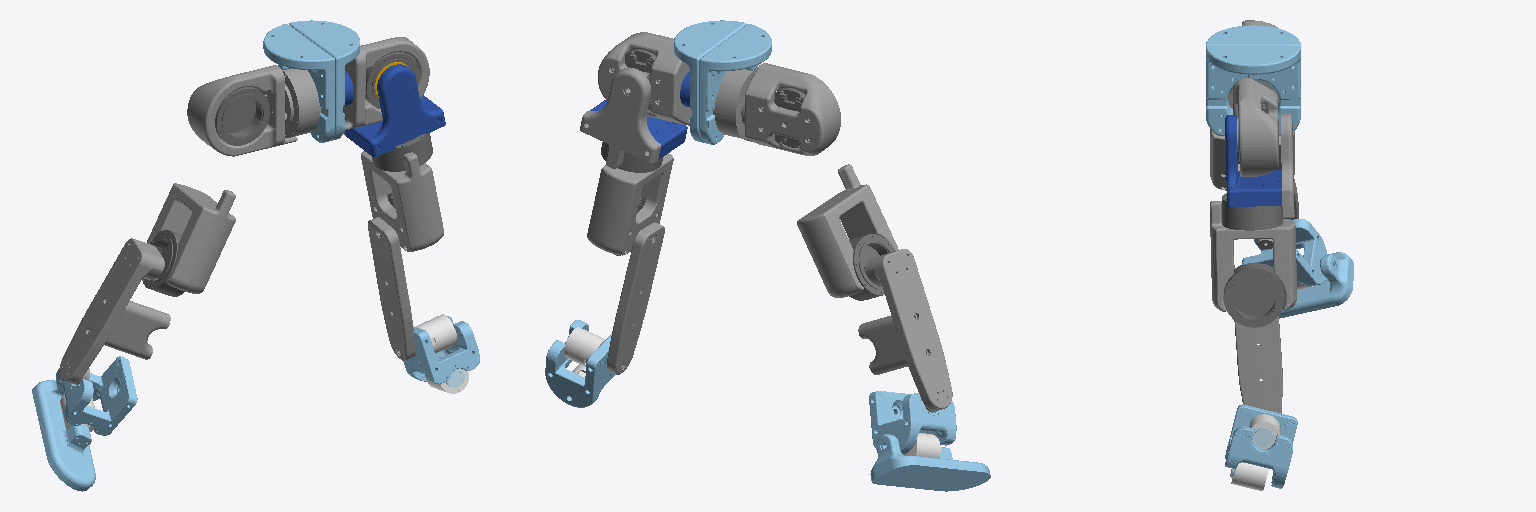
--- What the picture shows (computed from the rendered views, not written in the file) ---
3 views of the same robot in one strip: view 1: azimuth 30°, elevation 25°; view 2: azimuth 150°, elevation 25°; view 3: azimuth 270°, elevation 25° (orthographic).
Model lower_limbs with 46 links and 45 joints (12 revolute, 33 fixed), rooted at link_leg_assembly_left_1_leg_part_1_2, posed joints at zero except 8 at the middle of their limits (left hip pitch = 1.59, left hip yaw = 0.845, right hip yaw = -1.6, right hip roll = -1.7, left knee pitch = 2.05, right knee pitch = 2.27, +2 more).
Visible links, largest first — view 1: link_leg_assembly_right_1_leg_part_6_2, link_leg_assembly_right_1_leg_part_5_right_2, link_leg_assembly_left_1_let_part_5_left_1, link_leg_assembly_right_1_leg_part_2_right_1, link_leg_assembly_left_1_leg_part_3_1, link_right_foot_1_foot_1, link_leg_assembly_left_1_leg_part_7_1, link_leg_assembly_right_1_leg_part_1_2, link_leg_assembly_left_1_leg_part_2_left_1, link_right_foot_1_ankle_half_2_right_2, link_leg_assembly_left_1_leg_part_1_2, link_leg_assembly_right_1_rmd_x8_90_mock_1_outer_rmd_x8_90_1 (+7 smaller); view 2: link_leg_assembly_right_1_leg_part_6_2, link_leg_assembly_right_1_leg_part_2_right_1, link_leg_assembly_right_1_leg_part_5_right_2, link_leg_assembly_left_1_let_part_5_left_1, link_leg_assembly_left_1_leg_part_4_1, link_leg_assembly_left_1_leg_part_7_1, link_leg_assembly_left_1_leg_part_2_left_1, link_right_foot_1_foot_1, link_leg_assembly_right_1_leg_part_1_2, link_left_foot_1_ankle_half_1_left_2, link_right_foot_1_ankle_half_1_right_1, link_leg_assembly_left_1_leg_part_1_2 (+9 smaller); view 3: link_leg_assembly_left_1_leg_part_1_2, link_leg_assembly_left_1_let_part_5_left_1, link_leg_assembly_left_1_leg_part_2_left_1, link_leg_assembly_left_1_leg_part_7_1, link_leg_assembly_left_1_rmd_x8_90_mock_3_outer_rmd_x8_90_1, link_leg_assembly_left_1_leg_part_3_1, link_right_foot_1_foot_1, link_right_foot_1_ankle_half_1_right_1, link_leg_assembly_right_1_leg_part_1_2, link_left_foot_1_ankle_half_2_left_1, link_left_foot_1_ankle_half_1_left_2, link_leg_assembly_left_1_rmd_x8_90_mock_2_outer_rmd_x8_90_1 (+3 smaller).
Link boxes in pixels (x1,y1,x2,y2): link_leg_assembly_right_1_leg_part_6_2: (59,238,170,384); link_leg_assembly_right_1_leg_part_5_right_2: (147,183,235,293); link_leg_assembly_left_1_let_part_5_left_1: (361,151,443,251); link_leg_assembly_right_1_leg_part_2_right_1: (187,65,297,156); link_leg_assembly_left_1_leg_part_3_1: (345,64,445,156); link_right_foot_1_foot_1: (32,380,95,491); link_leg_assembly_left_1_leg_part_7_1: (368,217,415,360); link_leg_assembly_right_1_leg_part_1_2: (263,24,334,142); link_leg_assembly_left_1_leg_part_2_left_1: (343,37,429,130); link_right_foot_1_ankle_half_2_right_2: (64,377,137,435); link_leg_assembly_left_1_leg_part_1_2: (289,20,359,140); link_leg_assembly_right_1_rmd_x8_90_mock_1_outer_rmd_x8_90_1: (215,87,269,145); link_leg_assembly_right_1_leg_part_6_2: (858,249,952,412); link_leg_assembly_right_1_leg_part_2_right_1: (744,63,840,155); link_leg_assembly_right_1_leg_part_5_right_2: (797,164,898,297); link_leg_assembly_left_1_let_part_5_left_1: (587,153,673,255); link_leg_assembly_left_1_leg_part_4_1: (580,67,660,168); link_leg_assembly_left_1_leg_part_7_1: (607,222,664,373); link_leg_assembly_left_1_leg_part_2_left_1: (598,32,691,125); link_right_foot_1_foot_1: (870,434,990,491); link_leg_assembly_right_1_leg_part_1_2: (699,24,771,144); link_left_foot_1_ankle_half_1_left_2: (545,340,610,407); link_right_foot_1_ankle_half_1_right_1: (869,391,933,454); link_leg_assembly_left_1_leg_part_1_2: (674,20,746,142); link_leg_assembly_left_1_leg_part_1_2: (1206,46,1300,135); link_leg_assembly_left_1_let_part_5_left_1: (1210,201,1296,311); link_leg_assembly_left_1_leg_part_2_left_1: (1233,78,1278,176); link_leg_assembly_left_1_leg_part_7_1: (1234,316,1282,413); link_leg_assembly_left_1_rmd_x8_90_mock_3_outer_rmd_x8_90_1: (1224,263,1284,327); link_leg_assembly_left_1_leg_part_3_1: (1225,115,1281,206); link_right_foot_1_foot_1: (1279,252,1353,318); link_right_foot_1_ankle_half_1_right_1: (1266,219,1327,286); link_leg_assembly_right_1_leg_part_1_2: (1206,25,1300,113); link_left_foot_1_ankle_half_2_left_1: (1225,404,1268,468); link_left_foot_1_ankle_half_1_left_2: (1257,411,1297,488); link_leg_assembly_left_1_rmd_x8_90_mock_2_outer_rmd_x8_90_1: (1222,193,1282,230).
Bounding box of the posed robot: 0.8237 × 0.2565 × 0.7331 m (x, y, z).
28 mesh visuals loaded from 46 distinct referenced files (28 binary STL); not drawn: 18 (reference not matched to a file when rendering).

robot.urdf — lower_limbs:
<robot name="lower_limbs">
  <link name="link_leg_assembly_left_1_leg_part_1_2">
    <visual>
      <origin xyz="0 0 0" rpy="0 0 0" />
      <geometry>
        <mesh filename="./meshes/leg_assembly_left_1_leg_part_1_2_simple.stl" />
        </geometry>
      <material name="link_leg_assembly_left_1_leg_part_1_2_material">
        <color rgba="0.61568627 0.81176471 0.92941176 1" />
        </material>
      </visual>
    <collision>
      <origin xyz="0 0 0" rpy="0 0 0" />
      <geometry>
        <mesh filename="./meshes/leg_assembly_left_1_leg_part_1_2_simple.stl" />
        </geometry>
      </collision>
    <inertial>
      <mass value="0.18740424" />
      <inertia ixx="0.00086371009" iyy="0.00049678333" izz="0.00050512115" ixy="0" ixz="-8.1028268e-05" iyz="0" />
      <origin xyz="0 0 0" rpy="-3.1415129 0 3.1415282" />
      </inertial>
    </link>
  <link name="link_leg_assembly_right_1_leg_part_1_2">
    <visual>
      <origin xyz="0 0 0" rpy="0 0 0" />
      <geometry>
        <mesh filename="./meshes/leg_assembly_right_1_leg_part_1_2_simple.stl" />
        </geometry>
      <material name="link_leg_assembly_right_1_leg_part_1_2_material">
        <color rgba="0.61568627 0.81176471 0.92941176 1" />
        </material>
      </visual>
    <collision>
      <origin xyz="0 0 0" rpy="0 0 0" />
      <geometry>
        <mesh filename="./meshes/leg_assembly_right_1_leg_part_1_2_simple.stl" />
        </geometry>
      </collision>
    <inertial>
      <mass value="0.18740424" />
      <inertia ixx="0.00050512115" iyy="0.00086371009" izz="0.00049678333" ixy="8.1028268e-05" ixz="0" iyz="0" />
      <origin xyz="0.068999903 0.017024107 0.020998677" rpy="-0.21686582 -0.20732123 0.045338571" />
      </inertial>
    </link>
  <joint name="joint_fastened_4" type="fixed">
    <origin xyz="-0.020998677 -0.069000097 0.017024107" rpy="-1.5707963 0 1.5707963" />
    <parent link="link_leg_assembly_left_1_leg_part_1_2" />
    <child link="link_leg_assembly_right_1_leg_part_1_2" />
    </joint>
  <link name="link_leg_assembly_left_1_rmd_x12_150_mock_1_outer_x12_150_1">
    <visual>
      <origin xyz="0 0 0" rpy="0 0 0" />
      <geometry>
        <mesh filename="./meshes/leg_assembly_left_1_rmd_x12_150_mock_1_outer_x12_150_1_simple.stl" />
        </geometry>
      <material name="link_leg_assembly_left_1_rmd_x12_150_mock_1_outer_x12_150_1_material">
        <color rgba="0.64705882 0.64705882 0.64705882 1" />
        </material>
      </visual>
    <collision>
      <origin xyz="0 0 0" rpy="0 0 0" />
      <geometry>
        <mesh filename="./meshes/leg_assembly_left_1_rmd_x12_150_mock_1_outer_x12_150_1_simple.stl" />
        </geometry>
      </collision>
    <inertial>
      <mass value="0.18332765" />x
      <inertia ixx="0.00034879882" iyy="0.0002115364" izz="0.00021637061" ixy="0" ixz="0" iyz="0" />
      <origin xyz="-0.0071587856 -0.057541153 0.015897698" rpy="1.5714571 -0.00071109293 -1.5709195" />
      </inertial>
    </link>
  <joint name="joint_leg_assembly_left_1_fastened_12" type="fixed">
    <origin xyz="-0.00099867745 0.0071596031 0.0055805032" rpy="1.5707963 0 1.5707963" />
    <parent link="link_leg_assembly_left_1_leg_part_1_2" />
    <child link="link_leg_assembly_left_1_rmd_x12_150_mock_1_outer_x12_150_1" />
    </joint>
  <link name="link_leg_assembly_right_1_rmd_x12_150_mock_1_outer_x12_150_1">
    <visual>
      <origin xyz="0 0 0" rpy="0 0 0" />
      <geometry>
        <mesh filename="./meshes/leg_assembly_right_1_rmd_x12_150_mock_1_outer_x12_150_1_simple.stl" />
        </geometry>
      <material name="link_leg_assembly_right_1_rmd_x12_150_mock_1_outer_x12_150_1_material">
        <color rgba="0.64705882 0.64705882 0.64705882 1" />
        </material>
      </visual>
    <collision>
      <origin xyz="0 0 0" rpy="0 0 0" />
      <geometry>
        <mesh filename="./meshes/leg_assembly_right_1_rmd_x12_150_mock_1_outer_x12_150_1_simple.stl" />
        </geometry>
      </collision>
    <inertial>
      <mass value="0.18332765" />
      <inertia ixx="0.00034879882" iyy="0.0002115364" izz="0.00021637061" ixy="0" ixz="0" iyz="0" />
      <origin xyz="-0.0071587856 -0.057541153 0.015897698" rpy="1.5714571 -0.00071109293 -1.5709195" />
      </inertial>
    </link>
  <joint name="joint_leg_assembly_right_1_fastened_12" type="fixed">
    <origin xyz="0.0618403 0.011443604 0.02" rpy="0 0 3.1415927" />
    <parent link="link_leg_assembly_right_1_leg_part_1_2" />
    <child link="link_leg_assembly_right_1_rmd_x12_150_mock_1_outer_x12_150_1" />
    </joint>
  <link name="link_leg_assembly_left_1_rmd_x12_150_mock_1_inner_x12_150_1">
    <visual>
      <origin xyz="0 0 0" rpy="0 0 0" />
      <geometry>
        <mesh filename="./meshes/leg_assembly_left_1_rmd_x12_150_mock_1_inner_x12_150_1_simple.stl" />
        </geometry>
      <material name="link_leg_assembly_left_1_rmd_x12_150_mock_1_inner_x12_150_1_material">
        <color rgba="0.23137255 0.38039216 0.70588235 1" />
        </material>
      </visual>
    <collision>
      <origin xyz="0 0 0" rpy="0 0 0" />
      <geometry>
        <mesh filename="./meshes/leg_assembly_left_1_rmd_x12_150_mock_1_inner_x12_150_1_simple.stl" />
        </geometry>
      </collision>
    <inertial>
      <mass value="0.023817612" />
      <inertia ixx="6.6689509e-06" iyy="6.6689509e-06" izz="1.1425082e-05" ixy="0" ixz="0" iyz="0" />
      <origin xyz="0 0 -0.010858971" rpy="3.1415927 0 0" />
      </inertial>
    </link>
  <joint name="left hip pitch" type="revolute">
    <origin xyz="-0.0071596999 -0.057556396 0.0245" rpy="3.1415927 0 -1.5707963" />
    <parent link="link_leg_assembly_left_1_rmd_x12_150_mock_1_outer_x12_150_1" />
    <child link="link_leg_assembly_left_1_rmd_x12_150_mock_1_inner_x12_150_1" />
    <limit effort="80" velocity="5" lower="0.5" upper="2.69" />
    <axis xyz="0 0 -1" />
    </joint>
  <link name="link_leg_assembly_right_1_rmd_x12_150_mock_1_inner_x12_150_1">
    <visual>
      <origin xyz="0 0 0" rpy="0 0 0" />
      <geometry>
        <mesh filename="./meshes/leg_assembly_right_1_rmd_x12_150_mock_1_inner_x12_150_1_simple.stl" />
        </geometry>
      <material name="link_leg_assembly_right_1_rmd_x12_150_mock_1_inner_x12_150_1_material">
        <color rgba="0.23137255 0.38039216 0.70588235 1" />
        </material>
      </visual>
    <collision>
      <origin xyz="0 0 0" rpy="0 0 0" />
      <geometry>
        <mesh filename="./meshes/leg_assembly_right_1_rmd_x12_150_mock_1_inner_x12_150_1_simple.stl" />
        </geometry>
      </collision>
    <inertial>
      <mass value="0.023817612" />
      <inertia ixx="6.6689509e-06" iyy="6.6689509e-06" izz="1.1425082e-05" ixy="0" ixz="0" iyz="0" />
      <origin xyz="0 0 -0.010858971" rpy="3.1415927 0 0" />
      </inertial>
    </link>
  <joint name="right hip pitch" type="revolute">
    <origin xyz="-0.0071596999 -0.057556396 0.0245" rpy="3.1415927 0 -1.5707963" />
    <parent link="link_leg_assembly_right_1_rmd_x12_150_mock_1_outer_x12_150_1" />
    <child link="link_leg_assembly_right_1_rmd_x12_150_mock_1_inner_x12_150_1" />
    <limit effort="80" velocity="5" lower="-1" upper="1" />
    <axis xyz="0 0 -1" />
    </joint>
  <link name="link_leg_assembly_left_1_leg_part_2_left_1">
    <visual>
      <origin xyz="0 0 0" rpy="0 0 0" />
      <geometry>
        <mesh filename="./meshes/leg_assembly_left_1_leg_part_2_left_1_simple.stl" />
        </geometry>
      <material name="link_leg_assembly_left_1_leg_part_2_left_1_material">
        <color rgba="0.64705882 0.64705882 0.64705882 1" />
        </material>
      </visual>
    <collision>
      <origin xyz="0 0 0" rpy="0 0 0" />
      <geometry>
        <mesh filename="./meshes/leg_assembly_left_1_leg_part_2_left_1_simple.stl" />
        </geometry>
      </collision>
    <inertial>
      <mass value="0.23289661" />
      <inertia ixx="0.0009832984" iyy="0.0006932322" izz="0.00049537603" ixy="-2.5858642e-06" ixz="-3.4541587e-05" iyz="-9.3648936e-06" />
      <origin xyz="0.007274543 0.018387155 -0.063811708" rpy="-3.1004224 -0.044182126 -3.1413808" />
      </inertial>
    </link>
  <joint name="joint_leg_assembly_left_1_fastened_1" type="fixed">
    <origin xyz="0 -0.0185 -0.023" rpy="0 0 0" />
    <parent link="link_leg_assembly_left_1_rmd_x12_150_mock_1_inner_x12_150_1" />
    <child link="link_leg_assembly_left_1_leg_part_2_left_1" />
    </joint>
  <link name="link_leg_assembly_right_1_leg_part_2_right_1">
    <visual>
      <origin xyz="0 0 0" rpy="0 0 0" />
      <geometry>
        <mesh filename="./meshes/leg_assembly_right_1_leg_part_2_right_1_simple.stl" />
        </geometry>
      <material name="link_leg_assembly_right_1_leg_part_2_right_1_material">
        <color rgba="0.64705882 0.64705882 0.64705882 1" />
        </material>
      </visual>
    <collision>
      <origin xyz="0 0 0" rpy="0 0 0" />
      <geometry>
        <mesh filename="./meshes/leg_assembly_right_1_leg_part_2_right_1_simple.stl" />
        </geometry>
      </collision>
    <inertial>
      <mass value="0.23289667" />
      <inertia ixx="0.00098329864" iyy="0.00069323288" izz="0.00049537596" ixy="2.5855964e-06" ixz="-3.4541887e-05" iyz="9.3657742e-06" />
      <origin xyz="0.012062724 -0.0005173634 -0.063811736" rpy="3.1004173 -0.044187644 3.1413808" />
      </inertial>
    </link>
  <joint name="joint_leg_assembly_right_1_fastened_84" type="fixed">
    <origin xyz="0 0 -0.023" rpy="0 0 1.5707963" />
    <parent link="link_leg_assembly_right_1_rmd_x12_150_mock_1_inner_x12_150_1" />
    <child link="link_leg_assembly_right_1_leg_part_2_right_1" />
    </joint>
  <link name="link_leg_assembly_left_1_rmd_x8_90_mock_1_outer_rmd_x8_90_1">
    <visual>
      <origin xyz="0 0 0" rpy="0 0 0" />
      <geometry>
        <mesh filename="./meshes/leg_assembly_left_1_rmd_x8_90_mock_1_outer_rmd_x8_90_1_simple.stl" />
        </geometry>
      <material name="link_leg_assembly_left_1_rmd_x8_90_mock_1_outer_rmd_x8_90_1_material">
        <color rgba="0.49803922 0.49803922 0.49803922 1" />
        </material>
      </visual>
    <collision>
      <origin xyz="0 0 0" rpy="0 0 0" />
      <geometry>
        <mesh filename="./meshes/leg_assembly_left_1_rmd_x8_90_mock_1_outer_rmd_x8_90_1_simple.stl" />
        </geometry>
      </collision>
    <inertial>
      <mass value="0.49985879" />
      <inertia ixx="0.0004826628" iyy="0.00046409105" izz="0.00077010699" ixy="0" ixz="0" iyz="0" />
      <origin xyz="0.018560146 -0.044808157 -0.019816187" rpy="0 1.5707963 0" />
      </inertial>
    </link>
  <joint name="joint_leg_assembly_left_1_fastened_2" type="fixed">
    <origin xyz="0.023061848 0.036429774 -0.12330816" rpy="-1.5707963 0 -1.5707963" />
    <parent link="link_leg_assembly_left_1_leg_part_2_left_1" />
    <child link="link_leg_assembly_left_1_rmd_x8_90_mock_1_outer_rmd_x8_90_1" />
    </joint>
  <link name="link_leg_assembly_right_1_rmd_x8_90_mock_1_outer_rmd_x8_90_1">
    <visual>
      <origin xyz="0 0 0" rpy="0 0 0" />
      <geometry>
        <mesh filename="./meshes/leg_assembly_right_1_rmd_x8_90_mock_1_outer_rmd_x8_90_1_simple.stl" />
        </geometry>
      <material name="link_leg_assembly_right_1_rmd_x8_90_mock_1_outer_rmd_x8_90_1_material">
        <color rgba="0.49803922 0.49803922 0.49803922 1" />
        </material>
      </visual>
    <collision>
      <origin xyz="0 0 0" rpy="0 0 0" />
      <geometry>
        <mesh filename="./meshes/leg_assembly_right_1_rmd_x8_90_mock_1_outer_rmd_x8_90_1_simple.stl" />
        </geometry>
      </collision>
    <inertial>
      <mass value="0.49985879" />
      <inertia ixx="0.0004826628" iyy="0.00046409105" izz="0.00077010699" ixy="0" ixz="0" iyz="0" />
      <origin xyz="0.018560146 0.044808157 -0.019816187" rpy="0 1.5707963 0" />
      </inertial>
    </link>
  <joint name="joint_leg_assembly_right_1_fastened_85" type="fixed">
    <origin xyz="0.02785 0.018560146 -0.033691843" rpy="-1.5707963 0 -1.5707963" />
    <parent link="link_leg_assembly_right_1_leg_part_2_right_1" />
    <child link="link_leg_assembly_right_1_rmd_x8_90_mock_1_outer_rmd_x8_90_1" />
    </joint>
  <link name="link_leg_assembly_left_1_rmd_x8_90_mock_1_inner_rmd_x8_90_1">
    <visual>
      <origin xyz="0 0 0" rpy="0 0 0" />
      <geometry>
        <mesh filename="./meshes/leg_assembly_left_1_rmd_x8_90_mock_1_inner_rmd_x8_90_1_simple.stl" />
        </geometry>
      <material name="link_leg_assembly_left_1_rmd_x8_90_mock_1_inner_rmd_x8_90_1_material">
        <color rgba="0.98039216 0.71372549 0.0039215686 1" />
        </material>
      </visual>
    <collision>
      <origin xyz="0 0 0" rpy="0 0 0" />
      <geometry>
        <mesh filename="./meshes/leg_assembly_left_1_rmd_x8_90_mock_1_inner_rmd_x8_90_1_simple.stl" />
        </geometry>
      </collision>
    <inertial>
      <mass value="0.35017331" />
      <inertia ixx="0.00012756556" iyy="0.00012756556" izz="0.00022624974" ixy="0" ixz="0" iyz="0" />
      <origin xyz="0 0 -0.0084776592" rpy="3.1415927 0 0" />
      </inertial>
    </link>
  <joint name="left hip yaw" type="revolute">
    <origin xyz="0.018560146 -0.044808157 -0.0475" rpy="3.1415927 0 0" />
    <parent link="link_leg_assembly_left_1_rmd_x8_90_mock_1_outer_rmd_x8_90_1" />
    <child link="link_leg_assembly_left_1_rmd_x8_90_mock_1_inner_rmd_x8_90_1" />
    <limit effort="80" velocity="5" lower="0.5" upper="1.19" />
    <axis xyz="0 0 -1" />
    </joint>
  <link name="link_leg_assembly_right_1_rmd_x8_90_mock_1_inner_rmd_x8_90_1">
    <visual>
      <origin xyz="0 0 0" rpy="0 0 0" />
      <geometry>
        <mesh filename="./meshes/leg_assembly_right_1_rmd_x8_90_mock_1_inner_rmd_x8_90_1_simple.stl" />
        </geometry>
      <material name="link_leg_assembly_right_1_rmd_x8_90_mock_1_inner_rmd_x8_90_1_material">
        <color rgba="0.98039216 0.71372549 0.0039215686 1" />
        </material>
      </visual>
    <collision>
      <origin xyz="0 0 0" rpy="0 0 0" />
      <geometry>
        <mesh filename="./meshes/leg_assembly_right_1_rmd_x8_90_mock_1_inner_rmd_x8_90_1_simple.stl" />
        </geometry>
      </collision>
    <inertial>
      <mass value="0.35017331" />
      <inertia ixx="0.00012756556" iyy="0.00012756556" izz="0.00022624974" ixy="0" ixz="0" iyz="0" />
      <origin xyz="0 0 -0.0084776592" rpy="3.1415927 0 0" />
      </inertial>
    </link>
  <joint name="right hip yaw" type="revolute">
    <origin xyz="0.018560146 0.044808157 -0.0475" rpy="3.1415927 0 0" />
    <parent link="link_leg_assembly_right_1_rmd_x8_90_mock_1_outer_rmd_x8_90_1" />
    <child link="link_leg_assembly_right_1_rmd_x8_90_mock_1_inner_rmd_x8_90_1" />
    <limit effort="80" velocity="5" lower="-2.2" upper="-1" />
    <axis xyz="0 0 -1" />
    </joint>
  <link name="link_leg_assembly_left_1_leg_part_3_1">
    <visual>
      <origin xyz="0 0 0" rpy="0 0 0" />
      <geometry>
        <mesh filename="./meshes/leg_assembly_left_1_leg_part_3_1_simple.stl" />
        </geometry>
      <material name="link_leg_assembly_left_1_leg_part_3_1_material">
        <color rgba="0.23137255 0.38039216 0.70588235 1" />
        </material>
      </visual>
    <collision>
      <origin xyz="0 0 0" rpy="0 0 0" />
      <geometry>
        <mesh filename="./meshes/leg_assembly_left_1_leg_part_3_1_simple.stl" />
        </geometry>
      </collision>
    <inertial>
      <mass value="0.1914504" />
      <inertia ixx="0.00043556748" iyy="0.00039339846" izz="0.00050360511" ixy="0" ixz="9.6383147e-05" iyz="0" />
      <origin xyz="0.097659108 0.01250002 0.01745093" rpy="-3.1415924 0 -3.1415927" />
      </inertial>
    </link>
  <joint name="joint_leg_assembly_left_1_fastened_3" type="fixed">
    <origin xyz="0.021650635 0.0125 0.0035" rpy="3.1415927 0 -2.0943951" />
    <parent link="link_leg_assembly_left_1_rmd_x8_90_mock_1_inner_rmd_x8_90_1" />
    <child link="link_leg_assembly_left_1_leg_part_3_1" />
    </joint>
  <link name="link_leg_assembly_right_1_leg_part_3_1">
    <visual>
      <origin xyz="0 0 0" rpy="0 0 0" />
      <geometry>
        <mesh filename="./meshes/leg_assembly_right_1_leg_part_3_1_simple.stl" />
        </geometry>
      <material name="link_leg_assembly_right_1_leg_part_3_1_material">
        <color rgba="0.23137255 0.38039216 0.70588235 1" />
        </material>
      </visual>
    <collision>
      <origin xyz="0 0 0" rpy="0 0 0" />
      <geometry>
        <mesh filename="./meshes/leg_assembly_right_1_leg_part_3_1_simple.stl" />
        </geometry>
      </collision>
    <inertial>
      <mass value="0.1914504" />
      <inertia ixx="0.00043556748" iyy="0.00039339846" izz="0.00050360511" ixy="0" ixz="9.6383147e-05" iyz="0" />
      <origin xyz="0.097659108 0.01250002 0.01745093" rpy="-3.1415924 0 -3.1415927" />
      </inertial>
    </link>
  <joint name="joint_leg_assembly_right_1_fastened_3" type="fixed">
    <origin xyz="0.021650635 0.0125 0.0035" rpy="3.1415927 0 -2.0943951" />
    <parent link="link_leg_assembly_right_1_rmd_x8_90_mock_1_inner_rmd_x8_90_1" />
    <child link="link_leg_assembly_right_1_leg_part_3_1" />
    </joint>
  <link name="link_leg_assembly_left_1_leg_part_4_1">
    <visual>
      <origin xyz="0 0 0" rpy="0 0 0" />
      <geometry>
        <mesh filename="./meshes/leg_assembly_left_1_leg_part_4_1_simple.stl" />
        </geometry>
      <material name="link_leg_assembly_left_1_leg_part_4_1_material">
        <color rgba="0.64705882 0.64705882 0.64705882 1" />
        </material>
      </visual>
    <collision>
      <origin xyz="0 0 0" rpy="0 0 0" />
      <geometry>
        <mesh filename="./meshes/leg_assembly_left_1_leg_part_4_1_simple.stl" />
        </geometry>
      </collision>
    <inertial>
      <mass value="0.09299573" />
      <inertia ixx="8.6209079e-05" iyy="0.00017860969" izz="0.00025876717" ixy="0" ixz="0" iyz="0" />
      <origin xyz="-0.037174443 -0.060000019 -0.0098354041" rpy="0 0 0.0017096165" />
      </inertial>
    </link>
  <joint name="joint_leg_assembly_left_1_fastened_4" type="fixed">
    <origin xyz="0.11665064 -0.0475 0.0755" rpy="3.1415927 0 0" />
    <parent link="link_leg_assembly_left_1_leg_part_3_1" />
    <child link="link_leg_assembly_left_1_leg_part_4_1" />
    </joint>
  <link name="link_leg_assembly_left_1_rmd_x8_90_mock_2_outer_rmd_x8_90_1">
    <visual>
      <origin xyz="0 0 0" rpy="0 0 0" />
      <geometry>
        <mesh filename="./meshes/leg_assembly_left_1_rmd_x8_90_mock_2_outer_rmd_x8_90_1_simple.stl" />
        </geometry>
      <material name="link_leg_assembly_left_1_rmd_x8_90_mock_2_outer_rmd_x8_90_1_material">
        <color rgba="0.49803922 0.49803922 0.49803922 1" />
        </material>
      </visual>
    <collision>
      <origin xyz="0 0 0" rpy="0 0 0" />
      <geometry>
        <mesh filename="./meshes/leg_assembly_left_1_rmd_x8_90_mock_2_outer_rmd_x8_90_1_simple.stl" />
        </geometry>
      </collision>
    <inertial>
      <mass value="0.49985879" />
      <inertia ixx="0.0004826628" iyy="0.00046409105" izz="0.00077010699" ixy="0" ixz="0" iyz="0" />
      <origin xyz="-0.044808157 0.018560146 -0.019816187" rpy="0 1.5707963 0" />
      </inertial>
    </link>
  <joint name="joint_leg_assembly_left_1_fastened_5" type="fixed">
    <origin xyz="0.13165064 -0.032308157 0.0045898535" rpy="1.5707963 0 -1.5707963" />
    <parent link="link_leg_assembly_left_1_leg_part_3_1" />
    <child link="link_leg_assembly_left_1_rmd_x8_90_mock_2_outer_rmd_x8_90_1" />
    </joint>
  <link name="link_leg_assembly_right_1_leg_part_4_1">
    <visual>
      <origin xyz="0 0 0" rpy="0 0 0" />
      <geometry>
        <mesh filename="./meshes/leg_assembly_right_1_leg_part_4_1_simple.stl" />
        </geometry>
      <material name="link_leg_assembly_right_1_leg_part_4_1_material">
        <color rgba="0.64705882 0.64705882 0.64705882 1" />
        </material>
      </visual>
    <collision>
      <origin xyz="0 0 0" rpy="0 0 0" />
      <geometry>
        <mesh filename="./meshes/leg_assembly_right_1_leg_part_4_1_simple.stl" />
        </geometry>
      </collision>
    <inertial>
      <mass value="0.09299573" />
      <inertia ixx="8.6209079e-05" iyy="0.00017860969" izz="0.00025876717" ixy="0" ixz="0" iyz="0" />
      <origin xyz="-0.037174443 -0.060000019 -0.0098354041" rpy="0 0 0.0017096165" />
      </inertial>
    </link>
  <joint name="joint_leg_assembly_right_1_fastened_4" type="fixed">
    <origin xyz="0.11665064 -0.0475 0.0755" rpy="3.1415927 0 0" />
    <parent link="link_leg_assembly_right_1_leg_part_3_1" />
    <child link="link_leg_assembly_right_1_leg_part_4_1" />
    </joint>
  <link name="link_leg_assembly_right_1_rmd_x8_90_mock_2_outer_rmd_x8_90_1">
    <visual>
      <origin xyz="0 0 0" rpy="0 0 0" />
      <geometry>
        <mesh filename="./meshes/leg_assembly_right_1_rmd_x8_90_mock_2_outer_rmd_x8_90_1_simple.stl" />
        </geometry>
      <material name="link_leg_assembly_right_1_rmd_x8_90_mock_2_outer_rmd_x8_90_1_material">
        <color rgba="0.49803922 0.49803922 0.49803922 1" />
        </material>
      </visual>
    <collision>
      <origin xyz="0 0 0" rpy="0 0 0" />
      <geometry>
        <mesh filename="./meshes/leg_assembly_right_1_rmd_x8_90_mock_2_outer_rmd_x8_90_1_simple.stl" />
        </geometry>
      </collision>
    <inertial>
      <mass value="0.49985879" />
      <inertia ixx="0.0004826628" iyy="0.00046409105" izz="0.00077010699" ixy="0" ixz="0" iyz="0" />
      <origin xyz="-0.044808157 0.018560146 -0.019816187" rpy="0 1.5707963 0" />
      </inertial>
    </link>
  <joint name="joint_leg_assembly_right_1_fastened_5" type="fixed">
    <origin xyz="0.13165064 -0.032308157 0.0045898535" rpy="1.5707963 0 -1.5707963" />
    <parent link="link_leg_assembly_right_1_leg_part_3_1" />
    <child link="link_leg_assembly_right_1_rmd_x8_90_mock_2_outer_rmd_x8_90_1" />
    </joint>
  <link name="link_leg_assembly_left_1_rmd_x8_90_mock_2_inner_rmd_x8_90_1">
    <visual>
      <origin xyz="0 0 0" rpy="0 0 0" />
      <geometry>
        <mesh filename="./meshes/leg_assembly_left_1_rmd_x8_90_mock_2_inner_rmd_x8_90_1_simple.stl" />
        </geometry>
      <material name="link_leg_assembly_left_1_rmd_x8_90_mock_2_inner_rmd_x8_90_1_material">
        <color rgba="0.98039216 0.71372549 0.0039215686 1" />
        </material>
      </visual>
    <collision>
      <origin xyz="0 0 0" rpy="0 0 0" />
      <geometry>
        <mesh filename="./meshes/leg_assembly_left_1_rmd_x8_90_mock_2_inner_rmd_x8_90_1_simple.stl" />
        </geometry>
      </collision>
    <inertial>
      <mass value="0.35017331" />
      <inertia ixx="0.00012756556" iyy="0.00012756556" izz="0.00022624974" ixy="0" ixz="0" iyz="0" />
      <origin xyz="0 0 -0.0084776592" rpy="3.1415927 0 0" />
      </inertial>
    </link>
  <joint name="left hip roll" type="revolute">
    <origin xyz="-0.044808157 0.018560146 -0.0475" rpy="3.1415927 0 0" />
    <parent link="link_leg_assembly_left_1_rmd_x8_90_mock_2_outer_rmd_x8_90_1" />
    <child link="link_leg_assembly_left_1_rmd_x8_90_mock_2_inner_rmd_x8_90_1" />
    <limit effort="80" velocity="5" lower="-0.5" upper="0.5" />
    <axis xyz="0 0 -1" />
    </joint>
  <link name="link_leg_assembly_right_1_rmd_x8_90_mock_2_inner_rmd_x8_90_1">
    <visual>
      <origin xyz="0 0 0" rpy="0 0 0" />
      <geometry>
        <mesh filename="./meshes/leg_assembly_right_1_rmd_x8_90_mock_2_inner_rmd_x8_90_1_simple.stl" />
        </geometry>
      <material name="link_leg_assembly_right_1_rmd_x8_90_mock_2_inner_rmd_x8_90_1_material">
        <color rgba="0.98039216 0.71372549 0.0039215686 1" />
        </material>
      </visual>
    <collision>
      <origin xyz="0 0 0" rpy="0 0 0" />
      <geometry>
        <mesh filename="./meshes/leg_assembly_right_1_rmd_x8_90_mock_2_inner_rmd_x8_90_1_simple.stl" />
        </geometry>
      </collision>
    <inertial>
      <mass value="0.35017331" />
      <inertia ixx="0.00012756556" iyy="0.00012756556" izz="0.00022624974" ixy="0" ixz="0" iyz="0" />
      <origin xyz="0 0 -0.0084776592" rpy="3.1415927 0 0" />
      </inertial>
    </link>
  <joint name="right hip roll" type="revolute">
    <origin xyz="-0.044808157 0.018560146 -0.0475" rpy="3.1415927 0 0" />
    <parent link="link_leg_assembly_right_1_rmd_x8_90_mock_2_outer_rmd_x8_90_1" />
    <child link="link_leg_assembly_right_1_rmd_x8_90_mock_2_inner_rmd_x8_90_1" />
    <limit effort="80" velocity="5" lower="-2.39" upper="-1" />
    <axis xyz="0 0 -1" />
    </joint>
  <link name="link_leg_assembly_left_1_let_part_5_left_1">
    <visual>
      <origin xyz="0 0 0" rpy="0 0 0" />
      <geometry>
        <mesh filename="./meshes/leg_assembly_left_1_let_part_5_left_1_simple.stl" />
        </geometry>
      <material name="link_leg_assembly_left_1_let_part_5_left_1_material">
        <color rgba="0.64705882 0.64705882 0.64705882 1" />
        </material>
      </visual>
    <collision>
      <origin xyz="0 0 0" rpy="0 0 0" />
      <geometry>
        <mesh filename="./meshes/leg_assembly_left_1_let_part_5_left_1_simple.stl" />
        </geometry>
      </collision>
    <inertial>
      <mass value="0.28898133" />
      <inertia ixx="0.0013254719" iyy="0.0007160887" izz="0.00083314579" ixy="0" ixz="-5.4255244e-05" iyz="-2.9416279e-05" />
      <origin xyz="0.017475327 0.0012376983 -0.063202954" rpy="1.3266757 -0.10647641 1.5930957" />
      </inertial>
    </link>
  <joint name="joint_leg_assembly_left_1_fastened_92" type="fixed">
    <origin xyz="0 0 0.0035" rpy="3.1415927 0 3.1415927" />
    <parent link="link_leg_assembly_left_1_rmd_x8_90_mock_2_inner_rmd_x8_90_1" />
    <child link="link_leg_assembly_left_1_let_part_5_left_1" />
    </joint>
  <link name="link_leg_assembly_right_1_leg_part_5_right_2">
    <visual>
      <origin xyz="0 0 0" rpy="0 0 0" />
      <geometry>
        <mesh filename="./meshes/leg_assembly_right_1_leg_part_5_right_2_simple.stl" />
        </geometry>
      <material name="link_leg_assembly_right_1_leg_part_5_right_2_material">
        <color rgba="0.64705882 0.64705882 0.64705882 1" />
        </material>
      </visual>
    <collision>
      <origin xyz="0 0 0" rpy="0 0 0" />
      <geometry>
        <mesh filename="./meshes/leg_assembly_right_1_leg_part_5_right_2_simple.stl" />
        </geometry>
      </collision>
    <inertial>
      <mass value="0.28898136" />
      <inertia ixx="0.0013254721" iyy="0.00071608889" izz="0.00083314581" ixy="0" ixz="5.4255301e-05" iyz="-2.941628e-05" />
      <origin xyz="-0.0049753287 0.022888327 -0.063202967" rpy="-1.8149174 -0.10647643 1.5930959" />
      </inertial>
    </link>
  <joint name="joint_leg_assembly_right_1_fastened_6" type="fixed">
    <origin xyz="-0.021650635 -0.0125 0.0035" rpy="3.1415927 0 1.5707963" />
    <parent link="link_leg_assembly_right_1_rmd_x8_90_mock_2_inner_rmd_x8_90_1" />
    <child link="link_leg_assembly_right_1_leg_part_5_right_2" />
    </joint>
  <link name="link_leg_assembly_left_1_rmd_x8_90_mock_3_outer_rmd_x8_90_1">
    <visual>
      <origin xyz="0 0 0" rpy="0 0 0" />
      <geometry>
        <mesh filename="./meshes/leg_assembly_left_1_rmd_x8_90_mock_3_outer_rmd_x8_90_1_simple.stl" />
        </geometry>
      <material name="link_leg_assembly_left_1_rmd_x8_90_mock_3_outer_rmd_x8_90_1_material">
        <color rgba="0.49803922 0.49803922 0.49803922 1" />
        </material>
      </visual>
    <collision>
      <origin xyz="0 0 0" rpy="0 0 0" />
      <geometry>
        <mesh filename="./meshes/leg_assembly_left_1_rmd_x8_90_mock_3_outer_rmd_x8_90_1_simple.stl" />
        </geometry>
      </collision>
    <inertial>
      <mass value="0.49985879" />
      <inertia ixx="0.0004826628" iyy="0.00046409105" izz="0.00077010699" ixy="0" ixz="0" iyz="0" />
      <origin xyz="-0.018560146 0.044808157 -0.019816187" rpy="0 1.5707963 0" />
      </inertial>
    </link>
  <joint name="joint_leg_assembly_left_1_fastened_91" type="fixed">
    <origin xyz="0.02685 0.044808157 -0.10493985" rpy="-3.1415927 -1.5707963 0" />
    <parent link="link_leg_assembly_left_1_let_part_5_left_1" />
    <child link="link_leg_assembly_left_1_rmd_x8_90_mock_3_outer_rmd_x8_90_1" />
    </joint>
  <link name="link_leg_assembly_right_1_rmd_x8_90_mock_3_outer_rmd_x8_90_1">
    <visual>
      <origin xyz="0 0 0" rpy="0 0 0" />
      <geometry>
        <mesh filename="./meshes/leg_assembly_right_1_rmd_x8_90_mock_3_outer_rmd_x8_90_1_simple.stl" />
        </geometry>
      <material name="link_leg_assembly_right_1_rmd_x8_90_mock_3_outer_rmd_x8_90_1_material">
        <color rgba="0.49803922 0.49803922 0.49803922 1" />
        </material>
      </visual>
    <collision>
      <origin xyz="0 0 0" rpy="0 0 0" />
      <geometry>
        <mesh filename="./meshes/leg_assembly_right_1_rmd_x8_90_mock_3_outer_rmd_x8_90_1_simple.stl" />
        </geometry>
      </collision>
    <inertial>
      <mass value="0.49985879" />
      <inertia ixx="0.0004826628" iyy="0.00046409105" izz="0.00077010699" ixy="0" ixz="0" iyz="0" />
      <origin xyz="-0.018560146 -0.044808157 -0.019816187" rpy="0 1.5707963 0" />
      </inertial>
    </link>
  <joint name="joint_leg_assembly_right_1_fastened_7" type="fixed">
    <origin xyz="-0.01435 0.066458792 -0.10493985" rpy="0 -1.5707963 0" />
    <parent link="link_leg_assembly_right_1_leg_part_5_right_2" />
    <child link="link_leg_assembly_right_1_rmd_x8_90_mock_3_outer_rmd_x8_90_1" />
    </joint>
  <link name="link_leg_assembly_left_1_rmd_x8_90_mock_3_inner_rmd_x8_90_1">
    <visual>
      <origin xyz="0 0 0" rpy="0 0 0" />
      <geometry>
        <mesh filename="./meshes/leg_assembly_left_1_rmd_x8_90_mock_3_inner_rmd_x8_90_1_simple.stl" />
        </geometry>
      <material name="link_leg_assembly_left_1_rmd_x8_90_mock_3_inner_rmd_x8_90_1_material">
        <color rgba="0.98039216 0.71372549 0.0039215686 1" />
        </material>
      </visual>
    <collision>
      <origin xyz="0 0 0" rpy="0 0 0" />
      <geometry>
        <mesh filename="./meshes/leg_assembly_left_1_rmd_x8_90_mock_3_inner_rmd_x8_90_1_simple.stl" />
        </geometry>
      </collision>
    <inertial>
      <mass value="0.35017331" />
      <inertia ixx="0.00012756556" iyy="0.00012756556" izz="0.00022624974" ixy="0" ixz="0" iyz="0" />
      <origin xyz="0 0 -0.0084776592" rpy="3.1415927 0 0" />
      </inertial>
    </link>
  <joint name="left knee pitch" type="revolute">
    <origin xyz="-0.018560146 0.044808157 -0.0475" rpy="3.1415927 0 0" />
    <parent link="link_leg_assembly_left_1_rmd_x8_90_mock_3_outer_rmd_x8_90_1" />
    <child link="link_leg_assembly_left_1_rmd_x8_90_mock_3_inner_rmd_x8_90_1" />
    <limit effort="80" velocity="5" lower="1" upper="3.1" />
    <axis xyz="0 0 -1" />
    </joint>
  <link name="link_leg_assembly_right_1_rmd_x8_90_mock_3_inner_rmd_x8_90_1">
    <visual>
      <origin xyz="0 0 0" rpy="0 0 0" />
      <geometry>
        <mesh filename="./meshes/leg_assembly_right_1_rmd_x8_90_mock_3_inner_rmd_x8_90_1_simple.stl" />
        </geometry>
      <material name="link_leg_assembly_right_1_rmd_x8_90_mock_3_inner_rmd_x8_90_1_material">
        <color rgba="0.98039216 0.71372549 0.0039215686 1" />
        </material>
      </visual>
    <collision>
      <origin xyz="0 0 0" rpy="0 0 0" />
      <geometry>
        <mesh filename="./meshes/leg_assembly_right_1_rmd_x8_90_mock_3_inner_rmd_x8_90_1_simple.stl" />
        </geometry>
      </collision>
    <inertial>
      <mass value="0.35017331" />
      <inertia ixx="0.00012756556" iyy="0.00012756556" izz="0.00022624974" ixy="0" ixz="0" iyz="0" />
      <origin xyz="0 0 -0.0084776592" rpy="3.1415927 0 0" />
      </inertial>
    </link>
  <joint name="right knee pitch" type="revolute">
    <origin xyz="-0.018560146 -0.044808157 -0.0475" rpy="3.1415927 0 0" />
    <parent link="link_leg_assembly_right_1_rmd_x8_90_mock_3_outer_rmd_x8_90_1" />
    <child link="link_leg_assembly_right_1_rmd_x8_90_mock_3_inner_rmd_x8_90_1" />
    <limit effort="80" velocity="5" lower="1.54" upper="3" />
    <axis xyz="0 0 -1" />
    </joint>
  <link name="link_leg_assembly_left_1_leg_part_6_2">
    <visual>
      <origin xyz="0 0 0" rpy="0 0 0" />
      <geometry>
        <mesh filename="./meshes/leg_assembly_left_1_leg_part_6_2_simple.stl" />
        </geometry>
      <material name="link_leg_assembly_left_1_leg_part_6_2_material">
        <color rgba="0.64705882 0.64705882 0.64705882 1" />
        </material>
      </visual>
    <collision>
      <origin xyz="0 0 0" rpy="0 0 0" />
      <geometry>
        <mesh filename="./meshes/leg_assembly_left_1_leg_part_6_2_simple.stl" />
        </geometry>
      </collision>
    <inertial>
      <mass value="0.2603138" />
      <inertia ixx="0.0015840914" iyy="0.0014071286" izz="0.00033656987" ixy="0" ixz="0" iyz="-3.7789678e-05" />
      <origin xyz="0.11365727 0.025000061 -0.016168544" rpy="1.5707984 0.035240553 3.1415909" />
      </inertial>
    </link>
  <joint name="joint_leg_assembly_left_1_fastened_8" type="fixed">
    <origin xyz="0.021650635 0.0125 0.0035" rpy="3.1415927 0 -1.0471976" />
    <parent link="link_leg_assembly_left_1_rmd_x8_90_mock_3_inner_rmd_x8_90_1" />
    <child link="link_leg_assembly_left_1_leg_part_6_2" />
    </joint>
  <link name="link_leg_assembly_right_1_leg_part_6_2">
    <visual>
      <origin xyz="0 0 0" rpy="0 0 0" />
      <geometry>
        <mesh filename="./meshes/leg_assembly_right_1_leg_part_6_2_simple.stl" />
        </geometry>
      <material name="link_leg_assembly_right_1_leg_part_6_2_material">
        <color rgba="0.64705882 0.64705882 0.64705882 1" />
        </material>
      </visual>
    <collision>
      <origin xyz="0 0 0" rpy="0 0 0" />
      <geometry>
        <mesh filename="./meshes/leg_assembly_right_1_leg_part_6_2_simple.stl" />
        </geometry>
      </collision>
    <inertial>
      <mass value="0.2603138" />
      <inertia ixx="0.0015840914" iyy="0.0014071286" izz="0.00033656987" ixy="0" ixz="0" iyz="-3.7789678e-05" />
      <origin xyz="0.11365727 0.025000061 -0.016168544" rpy="1.5707984 0.035240553 3.1415909" />
      </inertial>
    </link>
  <joint name="joint_leg_assembly_right_1_fastened_8" type="fixed">
    <origin xyz="0.021650635 0.0125 0.0035" rpy="3.1415927 0 -1.0471976" />
    <parent link="link_leg_assembly_right_1_rmd_x8_90_mock_3_inner_rmd_x8_90_1" />
    <child link="link_leg_assembly_right_1_leg_part_6_2" />
    </joint>
  <link name="link_leg_assembly_left_1_rmd_x4_24_mock_1_inner_rmd_x4_24_1">
    <visual>
      <origin xyz="0 0 0" rpy="0 0 0" />
      <geometry>
        <mesh filename="./meshes/leg_assembly_left_1_rmd_x4_24_mock_1_inner_rmd_x4_24_1_simple.stl" />
        </geometry>
      <material name="link_leg_assembly_left_1_rmd_x4_24_mock_1_inner_rmd_x4_24_1_material">
        <color rgba="0.76862745 0.88627451 0.95294118 1" />
        </material>
      </visual>
    <collision>
      <origin xyz="0 0 0" rpy="0 0 0" />
      <geometry>
        <mesh filename="./meshes/leg_assembly_left_1_rmd_x4_24_mock_1_inner_rmd_x4_24_1_simple.stl" />
        </geometry>
      </collision>
    <inertial>
      <mass value="0.14016004" />
      <inertia ixx="1.7993604e-05" iyy="1.7993604e-05" izz="2.1433066e-05" ixy="0" ixz="0" iyz="0" />
      <origin xyz="-0.012380881 -0.0039640631 -0.012592975" rpy="3.1415927 0 0" />
      </inertial>
    </link>
  <joint name="joint_leg_assembly_left_1_fastened_9" type="fixed">
    <origin xyz="0.24594415 0.03799988 -0.0086" rpy="3.1415927 0 1.8849556" />
    <parent link="link_leg_assembly_left_1_leg_part_6_2" />
    <child link="link_leg_assembly_left_1_rmd_x4_24_mock_1_inner_rmd_x4_24_1" />
    </joint>
  <link name="link_leg_assembly_left_1_leg_part_7_1">
    <visual>
      <origin xyz="0 0 0" rpy="0 0 0" />
      <geometry>
        <mesh filename="./meshes/leg_assembly_left_1_leg_part_7_1_simple.stl" />
        </geometry>
      <material name="link_leg_assembly_left_1_leg_part_7_1_material">
        <color rgba="0.64705882 0.64705882 0.64705882 1" />
        </material>
      </visual>
    <collision>
      <origin xyz="0 0 0" rpy="0 0 0" />
      <geometry>
        <mesh filename="./meshes/leg_assembly_left_1_leg_part_7_1_simple.stl" />
        </geometry>
      </collision>
    <inertial>
      <mass value="0.13629252" />
      <inertia ixx="0.00077482859" iyy="0.00083176156" izz="6.5891346e-05" ixy="0" ixz="-1.3659634e-06" iyz="0" />
      <origin xyz="-0.049159962 0.00040712793 0.0099933584" rpy="-1.5864856 -1.5688485 -3.1278361" />
      </inertial>
    </link>
  <joint name="joint_leg_assembly_left_1_fastened_11" type="fixed">
    <origin xyz="0.165 0.025 0.0775" rpy="0 0 0" />
    <parent link="link_leg_assembly_left_1_leg_part_6_2" />
    <child link="link_leg_assembly_left_1_leg_part_7_1" />
    </joint>
  <link name="link_leg_assembly_right_1_rmd_x4_24_mock_1_inner_rmd_x4_24_1">
    <visual>
      <origin xyz="0 0 0" rpy="0 0 0" />
      <geometry>
        <mesh filename="./meshes/leg_assembly_right_1_rmd_x4_24_mock_1_inner_rmd_x4_24_1_simple.stl" />
        </geometry>
      <material name="link_leg_assembly_right_1_rmd_x4_24_mock_1_inner_rmd_x4_24_1_material">
        <color rgba="0.76862745 0.88627451 0.95294118 1" />
        </material>
      </visual>
    <collision>
      <origin xyz="0 0 0" rpy="0 0 0" />
      <geometry>
        <mesh filename="./meshes/leg_assembly_right_1_rmd_x4_24_mock_1_inner_rmd_x4_24_1_simple.stl" />
        </geometry>
      </collision>
    <inertial>
      <mass value="0.14016004" />
      <inertia ixx="1.7993604e-05" iyy="1.7993604e-05" izz="2.1433066e-05" ixy="0" ixz="0" iyz="0" />
      <origin xyz="-0.012380881 -0.0039640631 -0.012592975" rpy="3.1415927 0 0" />
      </inertial>
    </link>
  <joint name="joint_leg_assembly_right_1_fastened_9" type="fixed">
    <origin xyz="0.24594415 0.03799988 -0.0086" rpy="3.1415927 0 1.8849556" />
    <parent link="link_leg_assembly_right_1_leg_part_6_2" />
    <child link="link_leg_assembly_right_1_rmd_x4_24_mock_1_inner_rmd_x4_24_1" />
    </joint>
  <link name="link_leg_assembly_right_1_leg_part_7_1">
    <visual>
      <origin xyz="0 0 0" rpy="0 0 0" />
      <geometry>
        <mesh filename="./meshes/leg_assembly_right_1_leg_part_7_1_simple.stl" />
        </geometry>
      <material name="link_leg_assembly_right_1_leg_part_7_1_material">
        <color rgba="0.64705882 0.64705882 0.64705882 1" />
        </material>
      </visual>
    <collision>
      <origin xyz="0 0 0" rpy="0 0 0" />
      <geometry>
        <mesh filename="./meshes/leg_assembly_right_1_leg_part_7_1_simple.stl" />
        </geometry>
      </collision>
    <inertial>
      <mass value="0.13629252" />
      <inertia ixx="0.00077482859" iyy="0.00083176156" izz="6.5891346e-05" ixy="0" ixz="-1.3659634e-06" iyz="0" />
      <origin xyz="-0.049159962 0.00040712793 0.0099933584" rpy="-1.5864856 -1.5688485 -3.1278361" />
      </inertial>
    </link>
  <joint name="joint_leg_assembly_right_1_fastened_11" type="fixed">
    <origin xyz="0.165 0.025 0.0775" rpy="0 0 0" />
    <parent link="link_leg_assembly_right_1_leg_part_6_2" />
    <child link="link_leg_assembly_right_1_leg_part_7_1" />
    </joint>
  <link name="link_leg_assembly_left_1_rmd_x4_24_mock_1_outer_rmd_x4_24_1">
    <visual>
      <origin xyz="0 0 0" rpy="0 0 0" />
      <geometry>
        <mesh filename="./meshes/leg_assembly_left_1_rmd_x4_24_mock_1_outer_rmd_x4_24_1_simple.stl" />
        </geometry>
      <material name="link_leg_assembly_left_1_rmd_x4_24_mock_1_outer_rmd_x4_24_1_material">
        <color rgba="0.91764706 0.91764706 0.91764706 1" />
        </material>
      </visual>
    <collision>
      <origin xyz="0 0 0" rpy="0 0 0" />
      <geometry>
        <mesh filename="./meshes/leg_assembly_left_1_rmd_x4_24_mock_1_outer_rmd_x4_24_1_simple.stl" />
        </geometry>
      </collision>
    <inertial>
      <mass value="0.23995036" />
      <inertia ixx="0.00010773939" iyy="0.00010552777" izz="0.0001024819" ixy="0" ixz="0" iyz="0" />
      <origin xyz="0 0 0.010478263" rpy="3.1415926 0 0" />
      </inertial>
    </link>
  <joint name="left ankle pitch" type="revolute">
    <origin xyz="-0.012380881 -0.0039640631 -0.025" rpy="3.1415927 0 0" />
    <parent link="link_leg_assembly_left_1_rmd_x4_24_mock_1_inner_rmd_x4_24_1" />
    <child link="link_leg_assembly_left_1_rmd_x4_24_mock_1_outer_rmd_x4_24_1" />
    <limit effort="80" velocity="5" lower="-0.3" upper="1.13" />
    <axis xyz="0 0 -1" />
    </joint>
  <link name="link_leg_assembly_right_1_rmd_x4_24_mock_1_outer_rmd_x4_24_1">
    <visual>
      <origin xyz="0 0 0" rpy="0 0 0" />
      <geometry>
        <mesh filename="./meshes/leg_assembly_right_1_rmd_x4_24_mock_1_outer_rmd_x4_24_1_simple.stl" />
        </geometry>
      <material name="link_leg_assembly_right_1_rmd_x4_24_mock_1_outer_rmd_x4_24_1_material">
        <color rgba="0.91764706 0.91764706 0.91764706 1" />
        </material>
      </visual>
    <collision>
      <origin xyz="0 0 0" rpy="0 0 0" />
      <geometry>
        <mesh filename="./meshes/leg_assembly_right_1_rmd_x4_24_mock_1_outer_rmd_x4_24_1_simple.stl" />
        </geometry>
      </collision>
    <inertial>
      <mass value="0.23995036" />
      <inertia ixx="0.00010773939" iyy="0.00010552777" izz="0.0001024819" ixy="0" ixz="0" iyz="0" />
      <origin xyz="0 0 0.010478263" rpy="3.1415926 0 0" />
      </inertial>
    </link>
  <joint name="right ankle pitch" type="revolute">
    <origin xyz="-0.012380881 -0.0039640631 -0.025" rpy="3.1415927 0 0" />
    <parent link="link_leg_assembly_right_1_rmd_x4_24_mock_1_inner_rmd_x4_24_1" />
    <child link="link_leg_assembly_right_1_rmd_x4_24_mock_1_outer_rmd_x4_24_1" />
    <limit effort="80" velocity="5" lower="-0.5" upper="0.94" />
    <axis xyz="0 0 -1" />
    </joint>
  <link name="link_left_foot_1_ankle_half_2_left_1">
    <visual>
      <origin xyz="0 0 0" rpy="0 0 0" />
      <geometry>
        <mesh filename="./meshes/left_foot_1_ankle_half_2_left_1_simple.stl" />
        </geometry>
      <material name="link_left_foot_1_ankle_half_2_left_1_material">
        <color rgba="0.61568627 0.81176471 0.92941176 1" />
        </material>
      </visual>
    <collision>
      <origin xyz="0 0 0" rpy="0 0 0" />
      <geometry>
        <mesh filename="./meshes/left_foot_1_ankle_half_2_left_1_simple.stl" />
        </geometry>
      </collision>
    <inertial>
      <mass value="0.059239193" />
      <inertia ixx="0.00010763354" iyy="8.5716546e-05" izz="4.6394488e-05" ixy="-5.2541989e-06" ixz="-2.8474635e-06" iyz="-1.2537404e-05" />
      <origin xyz="0.020458789 -0.0024653048 0.03371754" rpy="-2.837802 -0.21366074 1.5044724" />
      </inertial>
    </link>
  <joint name="joint_fastened_3" type="fixed">
    <origin xyz="0.01225 -0.021217622 -0.02" rpy="0 0 0" />
    <parent link="link_leg_assembly_left_1_rmd_x4_24_mock_1_outer_rmd_x4_24_1" />
    <child link="link_left_foot_1_ankle_half_2_left_1" />
    </joint>
  <link name="link_right_foot_1_ankle_half_2_right_2">
    <visual>
      <origin xyz="0 0 0" rpy="0 0 0" />
      <geometry>
        <mesh filename="./meshes/right_foot_1_ankle_half_2_right_2_simple.stl" />
        </geometry>
      <material name="link_right_foot_1_ankle_half_2_right_2_material">
        <color rgba="0.61568627 0.81176471 0.92941176 1" />
        </material>
      </visual>
    <collision>
      <origin xyz="0 0 0" rpy="0 0 0" />
      <geometry>
        <mesh filename="./meshes/right_foot_1_ankle_half_2_right_2_simple.stl" />
        </geometry>
      </collision>
    <inertial>
      <mass value="0.05923903" />
      <inertia ixx="0.00010763343" iyy="8.5716153e-05" izz="4.6394894e-05" ixy="5.2543284e-06" ixz="2.8476195e-06" iyz="-1.2537683e-05" />
      <origin xyz="-0.020458855 -0.002465438 0.033717679" rpy="0.30380165 -0.21366139 1.5044685" />
      </inertial>
    </link>
  <joint name="joint_fastened_2" type="fixed">
    <origin xyz="-0.01225 -0.021217622 -0.02" rpy="0 0 0" />
    <parent link="link_leg_assembly_right_1_rmd_x4_24_mock_1_outer_rmd_x4_24_1" />
    <child link="link_right_foot_1_ankle_half_2_right_2" />
    </joint>
  <link name="link_left_foot_1_rmd_x4_24_mock_1_outer_rmd_x4_24_1">
    <visual>
      <origin xyz="0 0 0" rpy="0 0 0" />
      <geometry>
        <mesh filename="./meshes/left_foot_1_rmd_x4_24_mock_1_outer_rmd_x4_24_1_simple.stl" />
        </geometry>
      <material name="link_left_foot_1_rmd_x4_24_mock_1_outer_rmd_x4_24_1_material">
        <color rgba="0.91764706 0.91764706 0.91764706 1" />
        </material>
      </visual>
    <collision>
      <origin xyz="0 0 0" rpy="0 0 0" />
      <geometry>
        <mesh filename="./meshes/left_foot_1_rmd_x4_24_mock_1_outer_rmd_x4_24_1_simple.stl" />
        </geometry>
      </collision>
    <inertial>
      <mass value="0.23995036" />
      <inertia ixx="0.0001024819" iyy="0.00010552777" izz="0.00010773939" ixy="0" ixz="0" iyz="0" />
      <origin xyz="0 0.0245 0.030478263" rpy="3.1415927 0 0" />
      </inertial>
    </link>
  <joint name="joint_left_foot_1_fastened_3" type="fixed">
    <origin xyz="0.02125 -0.025832378 0.03055" rpy="3.1415927 1.5707963 0" />
    <parent link="link_left_foot_1_ankle_half_2_left_1" />
    <child link="link_left_foot_1_rmd_x4_24_mock_1_outer_rmd_x4_24_1" />
    </joint>
  <link name="link_left_foot_1_ankle_half_1_left_2">
    <visual>
      <origin xyz="0 0 0" rpy="0 0 0" />
      <geometry>
        <mesh filename="./meshes/left_foot_1_ankle_half_1_left_2_simple.stl" />
        </geometry>
      <material name="link_left_foot_1_ankle_half_1_left_2_material">
        <color rgba="0.61568627 0.81176471 0.92941176 1" />
        </material>
      </visual>
    <collision>
      <origin xyz="0 0 0" rpy="0 0 0" />
      <geometry>
        <mesh filename="./meshes/left_foot_1_ankle_half_1_left_2_simple.stl" />
        </geometry>
      </collision>
    <inertial>
      <mass value="0.068569669" />
      <inertia ixx="9.0276596e-05" iyy="0.00012909937" izz="6.5925457e-05" ixy="-9.6384392e-06" ixz="1.3588096e-05" iyz="3.1694887e-06" />
      <origin xyz="0.034099695 -0.044693335 -0.034222531" rpy="-1.1305633 -0.099417776 1.7791323" />
      </inertial>
    </link>
  <joint name="joint_left_foot_1_fastened_2" type="fixed">
    <origin xyz="-0.01225 0.035717622 0.06735" rpy="0 1.5707963 0" />
    <parent link="link_left_foot_1_ankle_half_2_left_1" />
    <child link="link_left_foot_1_ankle_half_1_left_2" />
    </joint>
  <link name="link_right_foot_1_ankle_half_1_right_1">
    <visual>
      <origin xyz="0 0 0" rpy="0 0 0" />
      <geometry>
        <mesh filename="./meshes/right_foot_1_ankle_half_1_right_1_simple.stl" />
        </geometry>
      <material name="link_right_foot_1_ankle_half_1_right_1_material">
        <color rgba="0.61568627 0.81176471 0.92941176 1" />
        </material>
      </visual>
    <collision>
      <origin xyz="0 0 0" rpy="0 0 0" />
      <geometry>
        <mesh filename="./meshes/right_foot_1_ankle_half_1_right_1_simple.stl" />
        </geometry>
      </collision>
    <inertial>
      <mass value="0.068569427" />
      <inertia ixx="9.0276293e-05" iyy="0.00012909903" izz="6.5925372e-05" ixy="-9.6384478e-06" ixz="1.3587977e-05" iyz="3.1695211e-06" />
      <origin xyz="-0.041700371 -0.0078066908 -0.034222553" rpy="-1.1305629 0.099418714 -1.779132" />
      </inertial>
    </link>
  <joint name="joint_right_foot_1_fastened_2" type="fixed">
    <origin xyz="0.01225 -0.016782378 -0.00845" rpy="-3.1415927 1.5707963 0" />
    <parent link="link_right_foot_1_ankle_half_2_right_2" />
    <child link="link_right_foot_1_ankle_half_1_right_1" />
    </joint>
  <link name="link_right_foot_1_rmd_x4_24_mock_1_outer_rmd_x4_24_1">
    <visual>
      <origin xyz="0 0 0" rpy="0 0 0" />
      <geometry>
        <mesh filename="./meshes/right_foot_1_rmd_x4_24_mock_1_outer_rmd_x4_24_1_simple.stl" />
        </geometry>
      <material name="link_right_foot_1_rmd_x4_24_mock_1_outer_rmd_x4_24_1_material">
        <color rgba="0.91764706 0.91764706 0.91764706 1" />
        </material>
      </visual>
    <collision>
      <origin xyz="0 0 0" rpy="0 0 0" />
      <geometry>
        <mesh filename="./meshes/right_foot_1_rmd_x4_24_mock_1_outer_rmd_x4_24_1_simple.stl" />
        </geometry>
      </collision>
    <inertial>
      <mass value="0.23995036" />
      <inertia ixx="0.0001024819" iyy="0.00010552777" izz="0.00010773939" ixy="0" ixz="0" iyz="0" />
      <origin xyz="0 -0.0245 0.030478263" rpy="-3.1415927 0 0" />
      </inertial>
    </link>
  <joint name="joint_right_foot_1_fastened_3" type="fixed">
    <origin xyz="-0.02125 -0.025832378 0.03055" rpy="0 1.5707963 0" />
    <parent link="link_right_foot_1_ankle_half_2_right_2" />
    <child link="link_right_foot_1_rmd_x4_24_mock_1_outer_rmd_x4_24_1" />
    </joint>
  <link name="link_left_foot_1_rmd_x4_24_mock_1_inner_rmd_x4_24_1">
    <visual>
      <origin xyz="0 0 0" rpy="0 0 0" />
      <geometry>
        <mesh filename="./meshes/left_foot_1_rmd_x4_24_mock_1_inner_rmd_x4_24_1_simple.stl" />
        </geometry>
      <material name="link_left_foot_1_rmd_x4_24_mock_1_inner_rmd_x4_24_1_material">
        <color rgba="0.76862745 0.88627451 0.95294118 1" />
        </material>
      </visual>
    <collision>
      <origin xyz="0 0 0" rpy="0 0 0" />
      <geometry>
        <mesh filename="./meshes/left_foot_1_rmd_x4_24_mock_1_inner_rmd_x4_24_1_simple.stl" />
        </geometry>
      </collision>
    <inertial>
      <mass value="0.14016004" />
      <inertia ixx="1.7993604e-05" iyy="1.7993604e-05" izz="2.1433066e-05" ixy="0" ixz="0" iyz="0" />
      <origin xyz="0 0 -0.012407025" rpy="3.1415927 0 0" />
      </inertial>
    </link>
  <joint name="left ankle roll" type="revolute">
    <origin xyz="0 0.0245 0.02" rpy="0 0 -1.5707963" />
    <parent link="link_left_foot_1_rmd_x4_24_mock_1_outer_rmd_x4_24_1" />
    <child link="link_left_foot_1_rmd_x4_24_mock_1_inner_rmd_x4_24_1" />
    <limit effort="80" velocity="5" lower="1.3" upper="2" />
    <axis xyz="0 0 -1" />
    </joint>
  <link name="link_right_foot_1_rmd_x4_24_mock_1_inner_rmd_x4_24_1">
    <visual>
      <origin xyz="0 0 0" rpy="0 0 0" />
      <geometry>
        <mesh filename="./meshes/right_foot_1_rmd_x4_24_mock_1_inner_rmd_x4_24_1_simple.stl" />
        </geometry>
      <material name="link_right_foot_1_rmd_x4_24_mock_1_inner_rmd_x4_24_1_material">
        <color rgba="0.76862745 0.88627451 0.95294118 1" />
        </material>
      </visual>
    <collision>
      <origin xyz="0 0 0" rpy="0 0 0" />
      <geometry>
        <mesh filename="./meshes/right_foot_1_rmd_x4_24_mock_1_inner_rmd_x4_24_1_simple.stl" />
        </geometry>
      </collision>
    <inertial>
      <mass value="0.14016004" />
      <inertia ixx="1.7993604e-05" iyy="1.7993604e-05" izz="2.1433066e-05" ixy="0" ixz="0" iyz="0" />
      <origin xyz="0 0 -0.012407025" rpy="3.1415927 0 0" />
      </inertial>
    </link>
  <joint name="right ankle roll" type="revolute">
    <origin xyz="0 -0.0245 0.02" rpy="0 0 1.5707963" />
    <parent link="link_right_foot_1_rmd_x4_24_mock_1_outer_rmd_x4_24_1" />
    <child link="link_right_foot_1_rmd_x4_24_mock_1_inner_rmd_x4_24_1" />
    <limit effort="80" velocity="5" lower="1" upper="2.3" />
    <axis xyz="0 0 -1" />
    </joint>
  <link name="link_left_foot_1_foot_1">
    <visual>
      <origin xyz="0 0 0" rpy="0 0 0" />
      <geometry>
        <mesh filename="./meshes/left_foot_1_foot_1_simple.stl" />
        </geometry>
      <material name="link_left_foot_1_foot_1_material">
        <color rgba="0.61568627 0.81176471 0.92941176 1" />
        </material>
      </visual>
    <collision>
      <origin xyz="0 0 0" rpy="0 0 0" />
      <geometry>
        <mesh filename="./meshes/left_foot_1_foot_1_simple.stl" />
        </geometry>
      </collision>
    <inertial>
      <mass value="0.17605931" />
      <inertia ixx="0.00073778745" iyy="0.0008258149" izz="0.00014200789" ixy="0" ixz="0" iyz="-2.634086e-05" />
      <origin xyz="-5.5967987e-05 -0.022887017 0.016327716" rpy="1.6092414 -4.5641467e-06 1.5323467" />
      </inertial>
    </link>
  <joint name="joint_left_foot_1_fastened_1" type="fixed">
    <origin xyz="0.0027574609 -0.012704189 -0.025" rpy="0 0 0.20943951" />
    <parent link="link_left_foot_1_rmd_x4_24_mock_1_inner_rmd_x4_24_1" />
    <child link="link_left_foot_1_foot_1" />
    </joint>
  <link name="link_right_foot_1_foot_1">
    <visual>
      <origin xyz="0 0 0" rpy="0 0 0" />
      <geometry>
        <mesh filename="./meshes/right_foot_1_foot_1_simple.stl" />
        </geometry>
      <material name="link_right_foot_1_foot_1_material">
        <color rgba="0.61568627 0.81176471 0.92941176 1" />
        </material>
      </visual>
    <collision>
      <origin xyz="0 0 0" rpy="0 0 0" />
      <geometry>
        <mesh filename="./meshes/right_foot_1_foot_1_simple.stl" />
        </geometry>
      </collision>
    <inertial>
      <mass value="0.17605931" />
      <inertia ixx="0.00073778745" iyy="0.0008258149" izz="0.00014200789" ixy="0" ixz="0" iyz="-2.634086e-05" />
      <origin xyz="-5.5967987e-05 -0.022887017 0.016327716" rpy="1.6092414 -4.5641467e-06 1.5323467" />
      </inertial>
    </link>
  <joint name="joint_right_foot_1_fastened_1" type="fixed">
    <origin xyz="0.0027574609 -0.012704189 -0.025" rpy="0 0 0.20943951" />
    <parent link="link_right_foot_1_rmd_x4_24_mock_1_inner_rmd_x4_24_1" />
    <child link="link_right_foot_1_foot_1" />
    </joint>
  <link name="link_left_foot_1_rubber_grip_1">
    <visual>
      <origin xyz="0 0 0" rpy="0 0 0" />
      <geometry>
        <mesh filename="./meshes/left_foot_1_rubber_grip_1_simple.stl" />
        </geometry>
      <material name="link_left_foot_1_rubber_grip_1_material">
        <color rgba="0.64705882 0.64705882 0.64705882 1" />
        </material>
      </visual>
    <collision>
      <origin xyz="0 0 0" rpy="0 0 0" />
      <geometry>
        <mesh filename="./meshes/left_foot_1_rubber_grip_1_simple.stl" />
        </geometry>
      </collision>
    <inertial>
      <mass value="0.1066265" />
      <inertia ixx="0.00042074027" iyy="8.2933746e-05" izz="0.00050331416" ixy="0" ixz="0" iyz="0" />
      <origin xyz="0 0 -0.00225" rpy="0 0 3.1415927" />
      </inertial>
    </link>
  <joint name="joint_left_foot_1_fastened_4" type="fixed">
    <origin xyz="-5.5854428e-05 -0.03700012 0.010230079" rpy="-1.5707963 0 0" />
    <parent link="link_left_foot_1_foot_1" />
    <child link="link_left_foot_1_rubber_grip_1" />
    </joint>
  <link name="link_right_foot_1_rubber_grip_3">
    <visual>
      <origin xyz="0 0 0" rpy="0 0 0" />
      <geometry>
        <mesh filename="./meshes/right_foot_1_rubber_grip_3_simple.stl" />
        </geometry>
      <material name="link_right_foot_1_rubber_grip_3_material">
        <color rgba="0.64705882 0.64705882 0.64705882 1" />
        </material>
      </visual>
    <collision>
      <origin xyz="0 0 0" rpy="0 0 0" />
      <geometry>
        <mesh filename="./meshes/right_foot_1_rubber_grip_3_simple.stl" />
        </geometry>
      </collision>
    <inertial>
      <mass value="0.1066265" />
      <inertia ixx="0.00042074027" iyy="8.2933746e-05" izz="0.00050331416" ixy="0" ixz="0" iyz="0" />
      <origin xyz="0 0 -0.00225" rpy="3.1415927 0 0" />
      </inertial>
    </link>
  <joint name="joint_right_foot_1_fastened_25" type="fixed">
    <origin xyz="-5.5854428e-05 -0.03700012 0.010230079" rpy="1.5707963 0 3.1415927" />
    <parent link="link_right_foot_1_foot_1" />
    <child link="link_right_foot_1_rubber_grip_3" />
    </joint>
  </robot>
